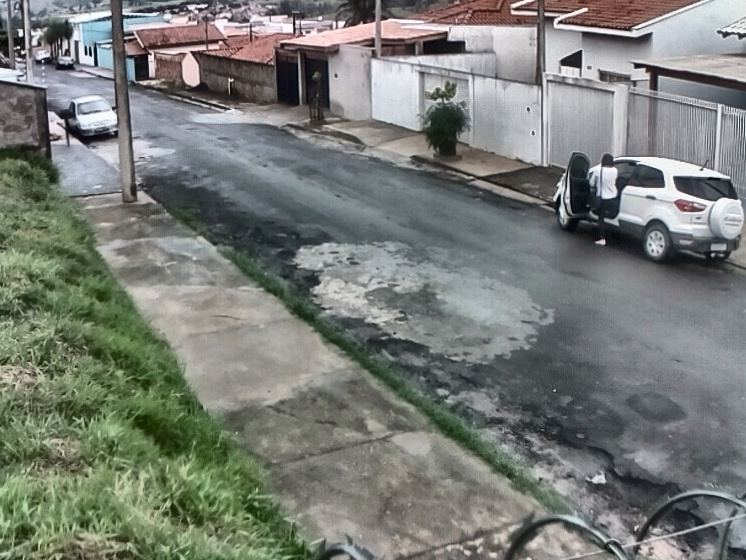person: (586, 149, 622, 248)
